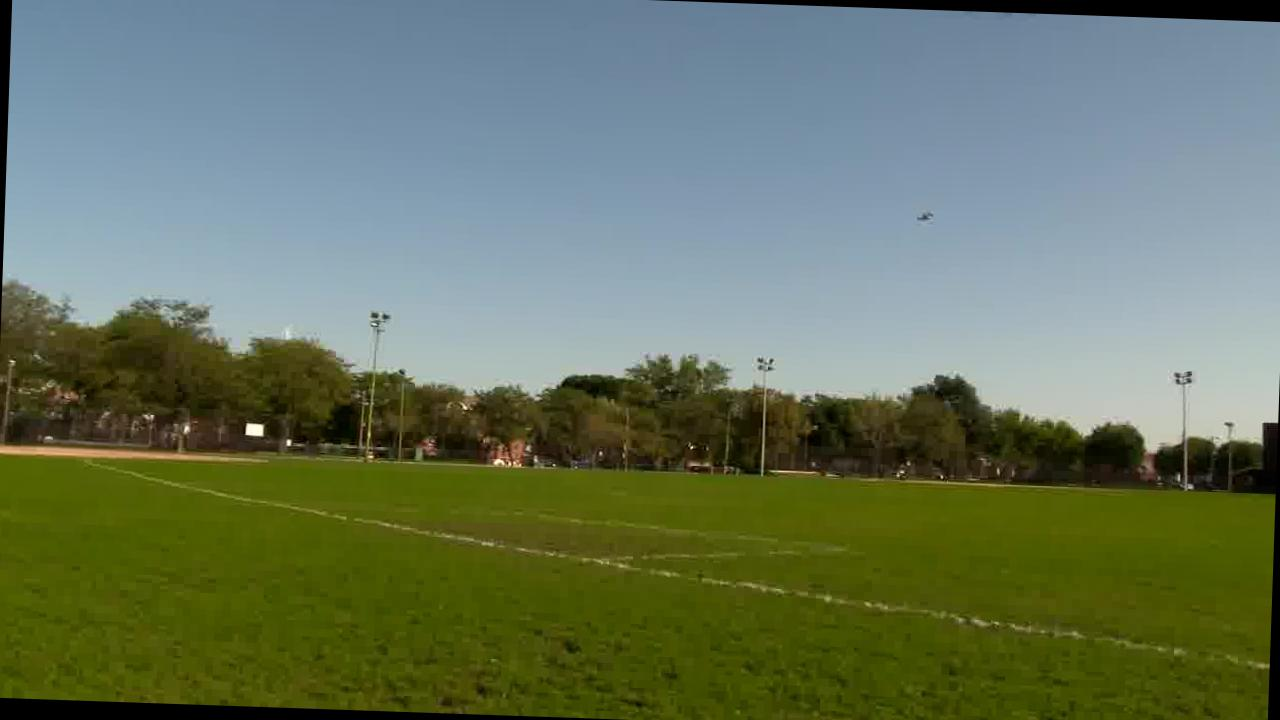drone: (892, 200, 942, 229)
